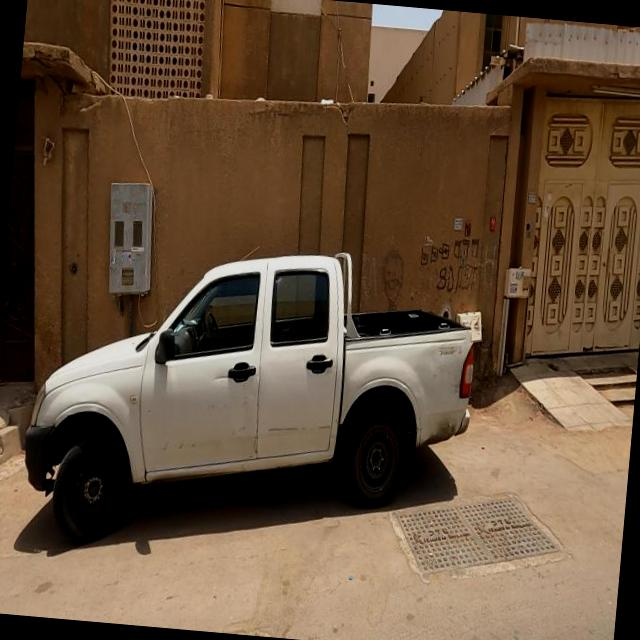debris: (371, 177, 526, 356), (354, 218, 432, 332)
